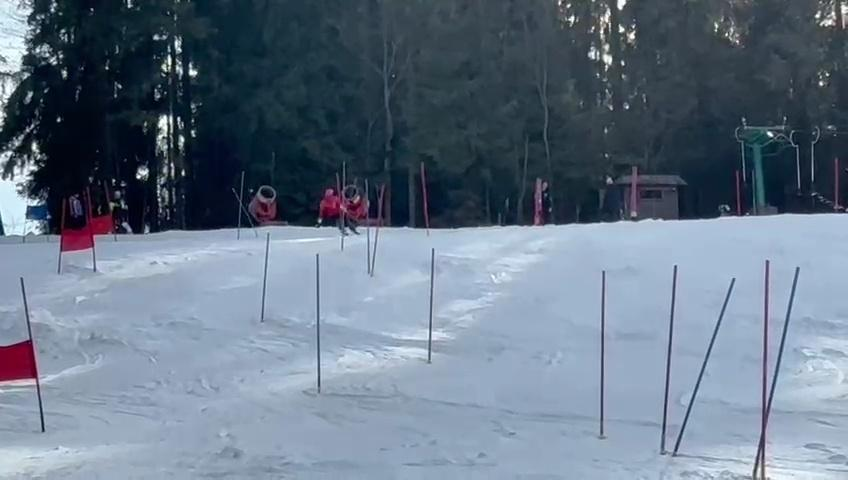gate: (654, 244, 745, 480), (10, 181, 72, 444), (586, 247, 630, 448), (412, 136, 465, 246), (357, 160, 392, 282), (660, 256, 679, 460), (78, 174, 106, 282), (310, 252, 326, 395), (597, 267, 608, 443), (232, 169, 252, 252), (426, 247, 439, 366), (257, 231, 273, 324), (776, 257, 781, 480)
